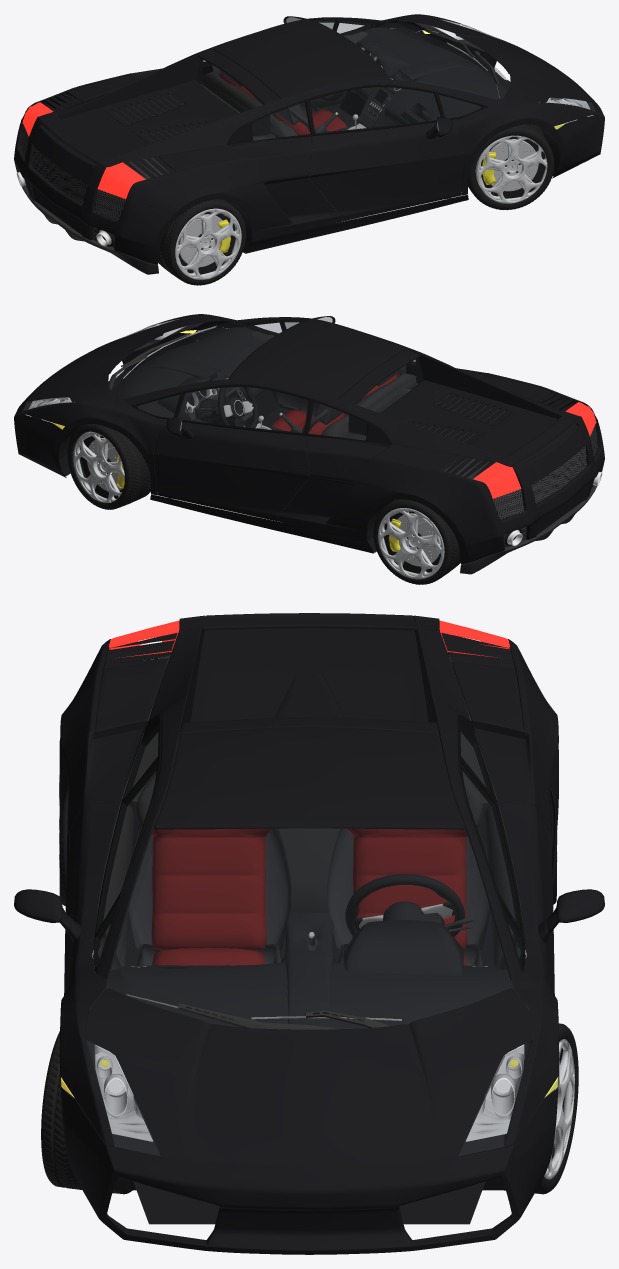
Rendered from gallardo-lod0.glb.
3 views of the same model, one above another, from view 1: azimuth 30°, elevation 25°; view 2: azimuth 150°, elevation 25°; view 3: azimuth 270°, elevation 25° (orthographic). The views are drawn at different scales.
Visible parts, largest first — view 1: Body, DoorMesh_R, Interior, Rim_FR, Rim_RR, RearGrille, Tire_RR, Tire_FR, Disc_FR, Disc_RR, DoorMesh_L; view 2: Body, DoorMesh_L, Interior, Rim_RL, Tire_FL, Rim_FL, RearGrille, Tire_RL, SteeringWheelMesh, DoorMesh_R, Disc_RL, Disc_FL; view 3: Body, Interior, DoorMesh_L, DoorMesh_R, SteeringWheelMesh, Tire_FR, Rim_FL, Tire_FL.
Boxes of the visible parts, box(x1,y1,x2,y2) form: Body: box(14, 14, 604, 274); DoorMesh_R: box(309, 87, 465, 220); Interior: box(56, 27, 506, 182); Rim_FR: box(475, 135, 547, 203); Rim_RR: box(175, 208, 241, 279); RearGrille: box(21, 124, 125, 247); Tire_RR: box(158, 199, 246, 285); Tire_FR: box(468, 124, 554, 210); Disc_FR: box(489, 139, 538, 191); Disc_RR: box(178, 214, 222, 267); DoorMesh_L: box(202, 16, 352, 109); Body: box(14, 314, 604, 574); DoorMesh_L: box(153, 386, 309, 520); Interior: box(112, 327, 563, 482); Rim_RL: box(378, 508, 444, 579); Tire_FL: box(67, 424, 150, 509); Rim_FL: box(73, 431, 124, 502); RearGrille: box(493, 424, 597, 547); Tire_RL: box(373, 499, 460, 584); SteeringWheelMesh: box(195, 387, 258, 427); DoorMesh_R: box(266, 316, 416, 409); Disc_RL: box(397, 513, 440, 566); Disc_FL: box(87, 438, 121, 491); Body: box(59, 613, 559, 1254); Interior: box(92, 655, 526, 1029); DoorMesh_L: box(462, 764, 604, 1010); DoorMesh_R: box(14, 764, 156, 1011); SteeringWheelMesh: box(345, 874, 473, 936); Tire_FR: box(41, 1031, 132, 1194); Rim_FL: box(544, 1039, 574, 1179); Tire_FL: box(462, 1023, 578, 1194).
Size of the model in its own units: 4.28 by 1.14 by 2.22.
28 materials, 1 textured.
